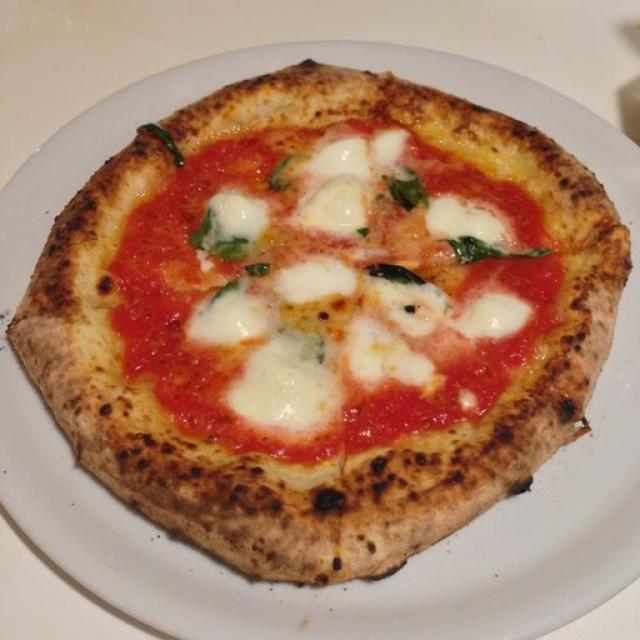Basil: (190, 203, 242, 263), (381, 160, 429, 219), (441, 239, 549, 263), (263, 142, 299, 200), (374, 246, 417, 288)
Cheese: (224, 324, 344, 444), (292, 115, 399, 230), (402, 260, 518, 347), (334, 274, 417, 388), (418, 182, 533, 242), (268, 242, 360, 313), (199, 175, 264, 263), (185, 281, 275, 343)
Pizza: (6, 61, 631, 590)
